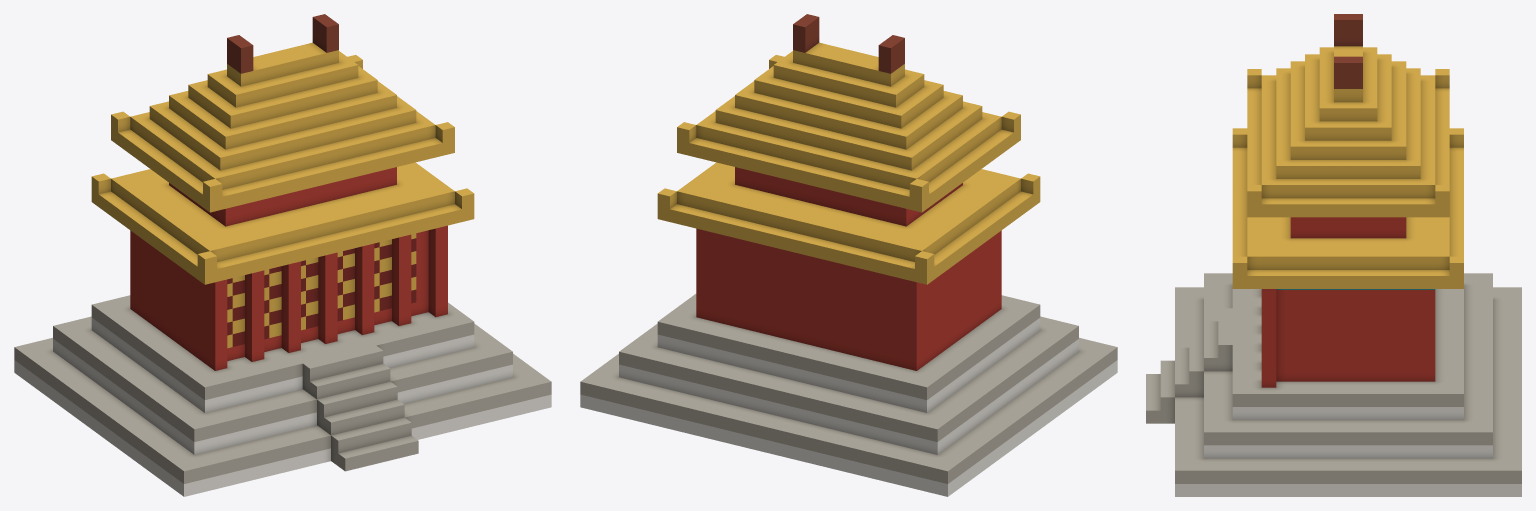
The model's file is w_forbidden_palace.glb.
3 renders of one model, left to right at view 1: azimuth 30°, elevation 25°; view 2: azimuth 150°, elevation 25°; view 3: azimuth 270°, elevation 25°, orthographic. The views are drawn at different scales.
Visible parts, largest first — view 1: w_forbidden_palace_body; view 2: w_forbidden_palace_body; view 3: w_forbidden_palace_body.
Part boxes in pixels (box(x1,y1,x2,y2)): w_forbidden_palace_body: box(14, 14, 551, 496); w_forbidden_palace_body: box(580, 14, 1117, 496); w_forbidden_palace_body: box(1146, 14, 1521, 496).
Bounding box in the file's own units: 1.88 × 1.75 × 1.62.
Materials: 1 (1 with a texture image).
